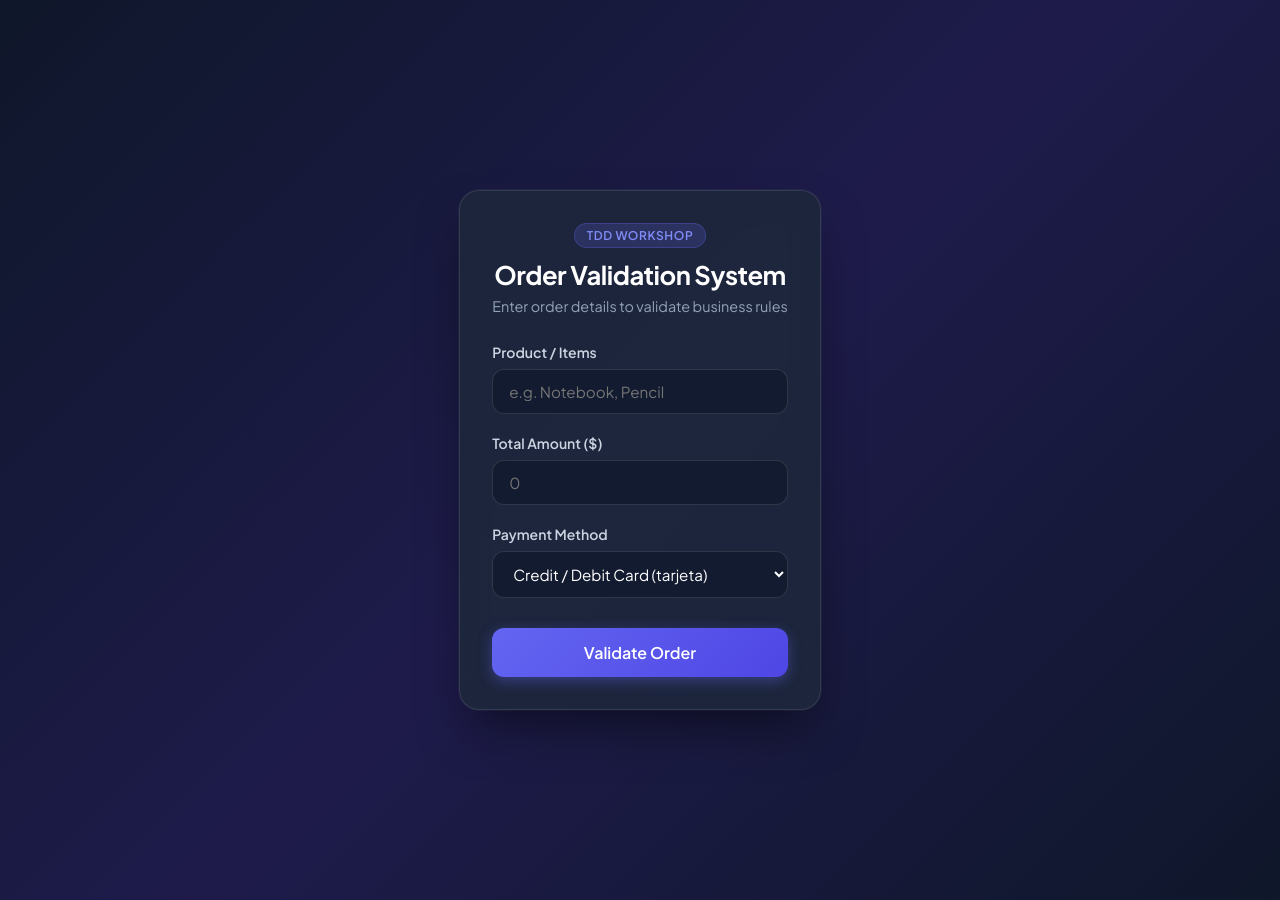
Test case: OrderForm - Frontend TDD Tests › Rule 2: shows error when an invalid payment method is selected
This screenshot has width=1280, height=900.
In the field labelled "Product / Items": [640, 392] box [492,369,788,414], type "cuaderno"
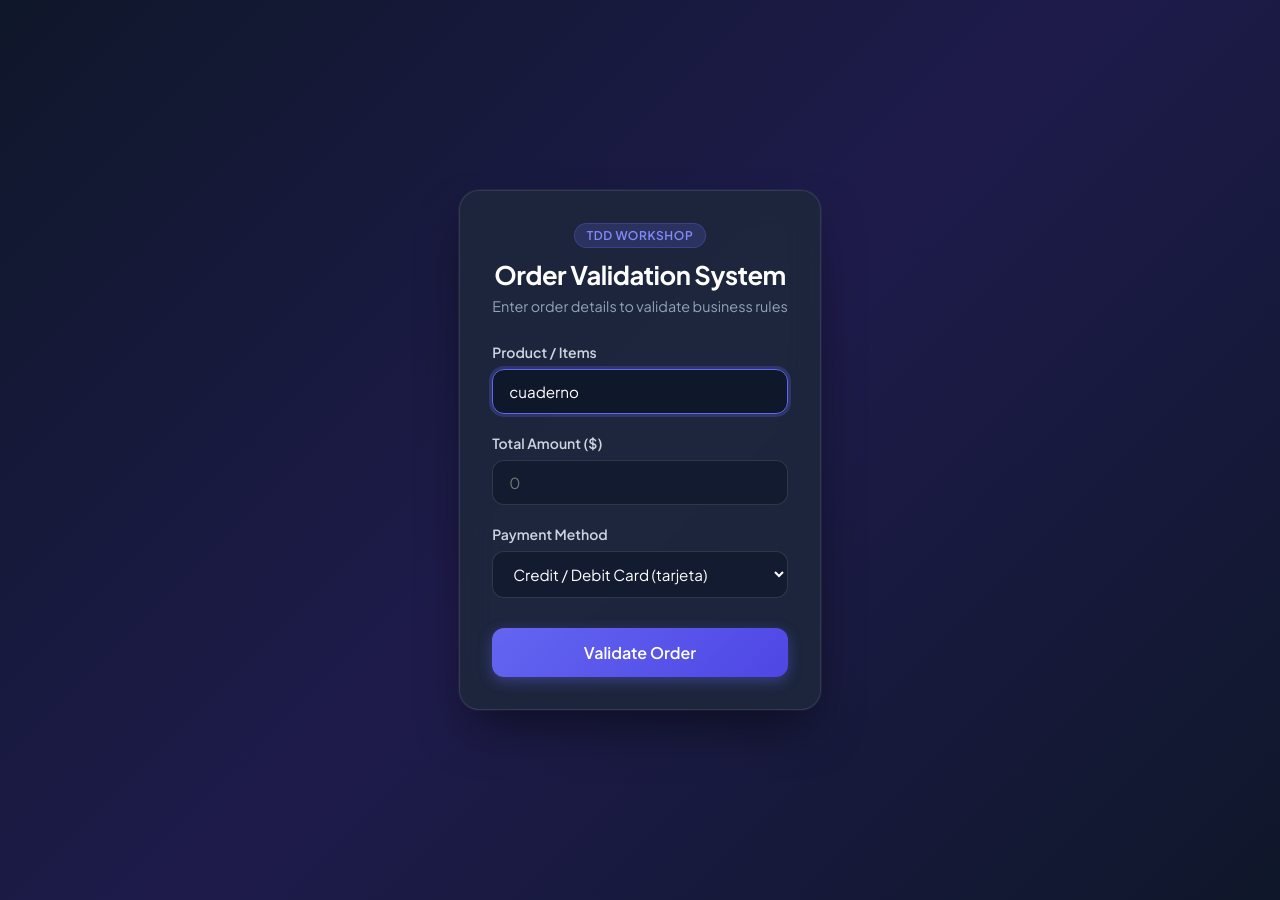
In the number field labelled "Total Amount ($)": [640, 482] box [492,460,788,505], type "50000"
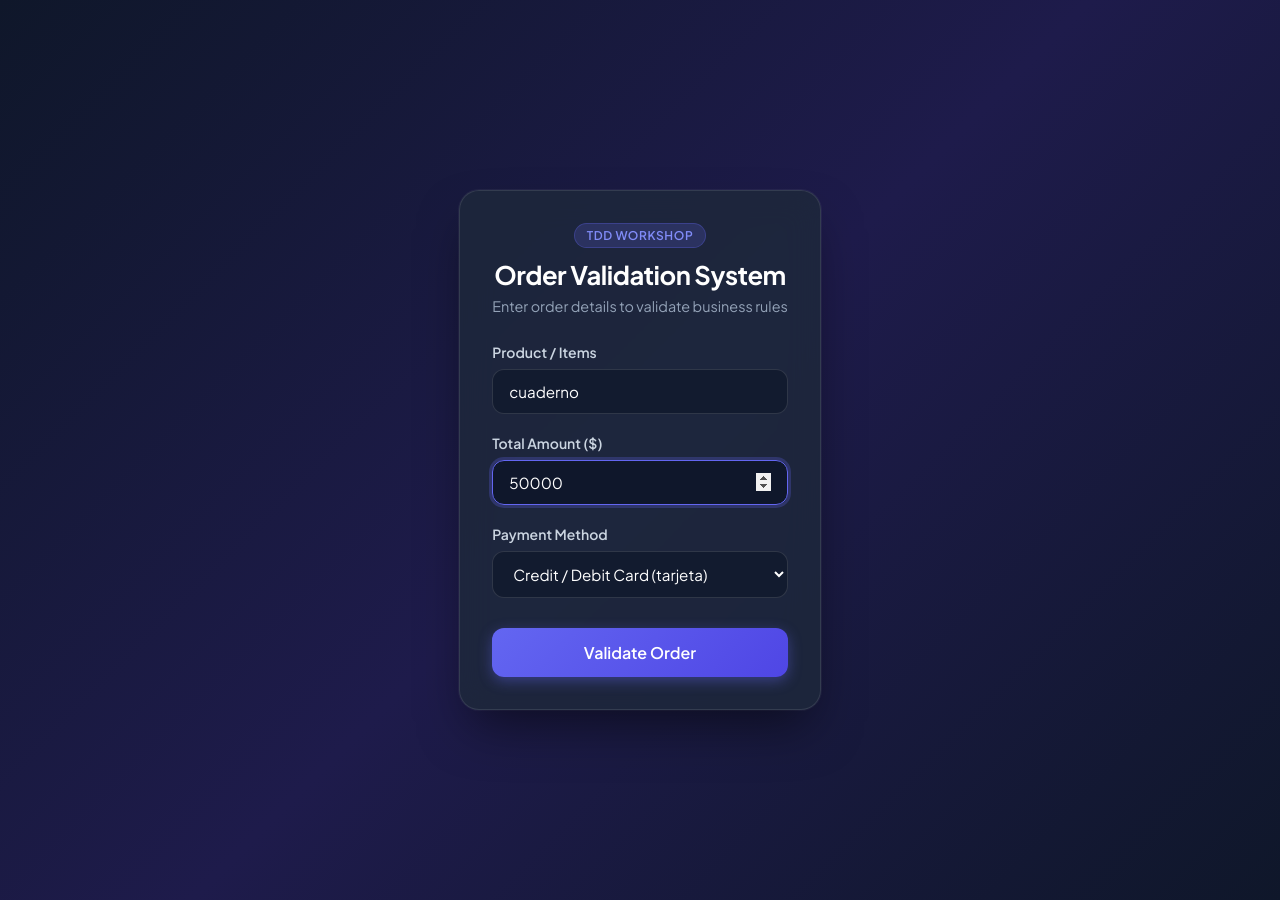
Select "Cash (efectivo - Invalid)" in the dropdown labelled "Payment Method": [640, 574] box [492,551,788,598]
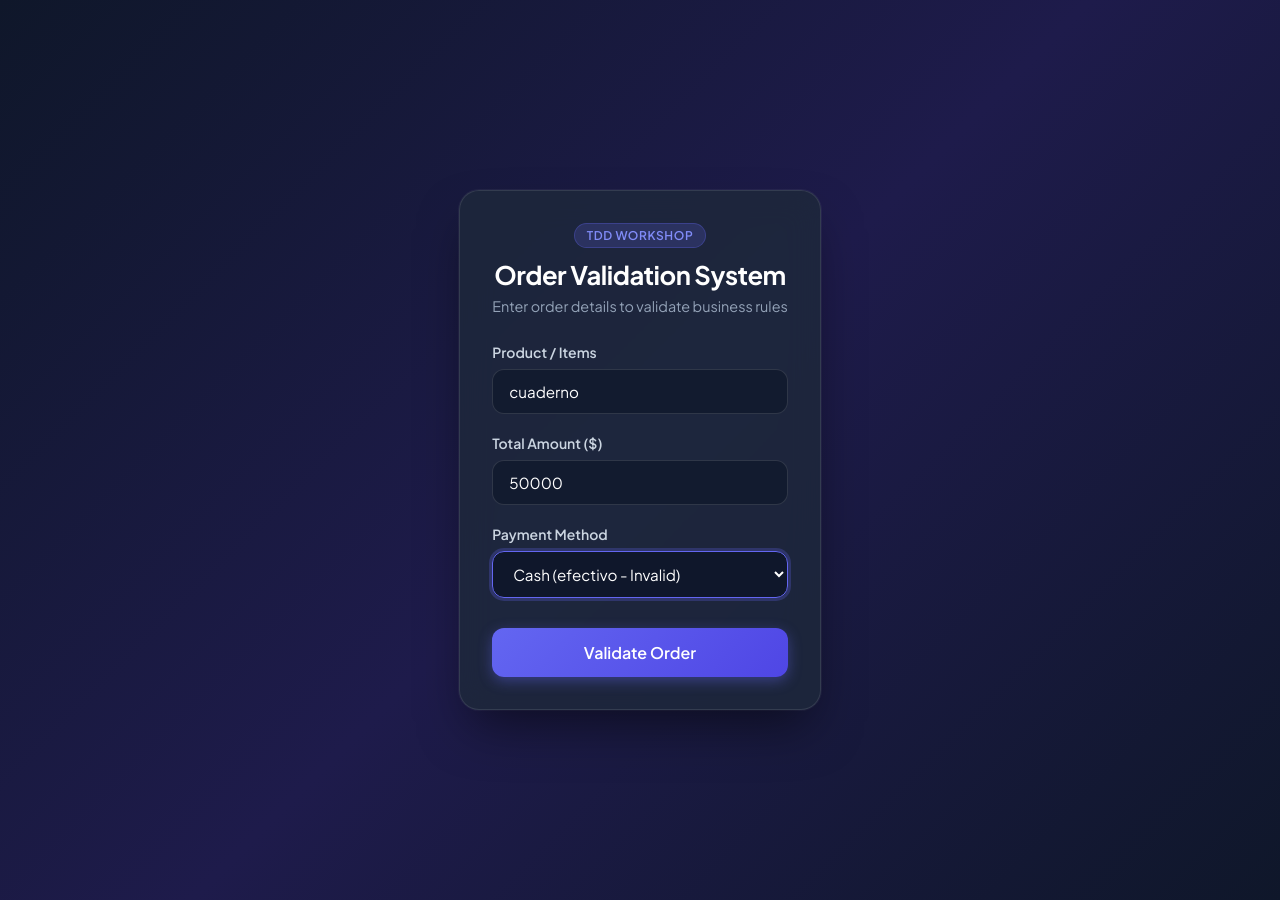
Click the button "Validate Order": [640, 652] box [492,628,788,677]
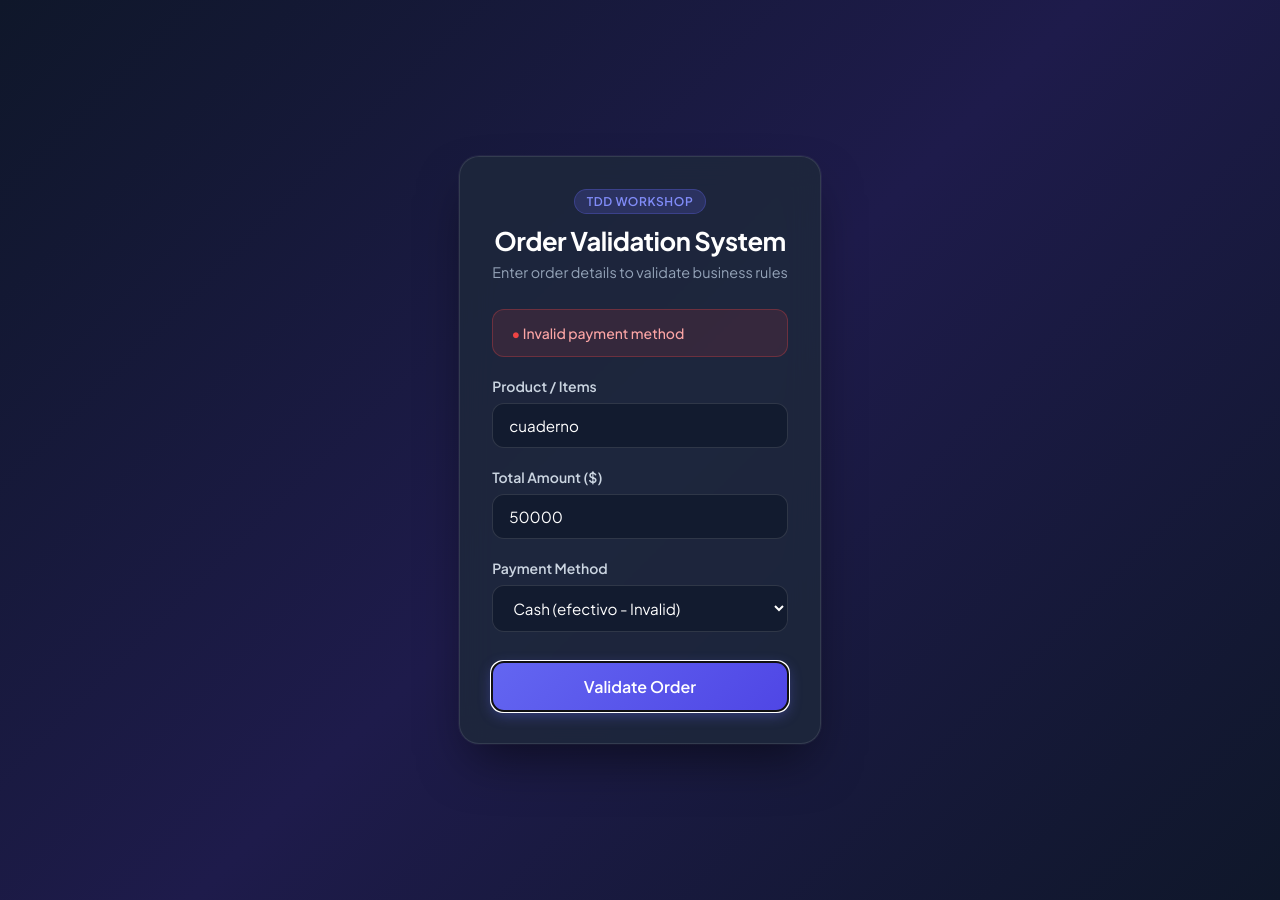
Expected: the list item "Invalid payment method" is shown, [523,324,684,342]
